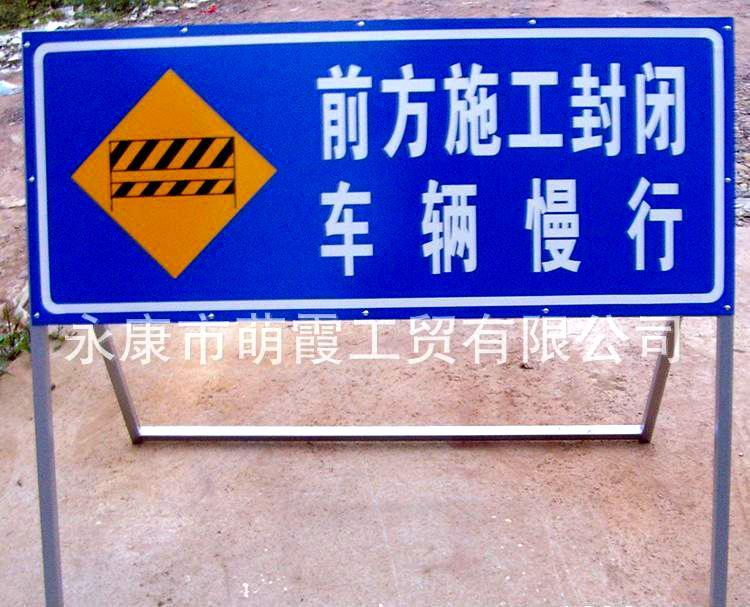sign: (28, 24, 728, 312)
